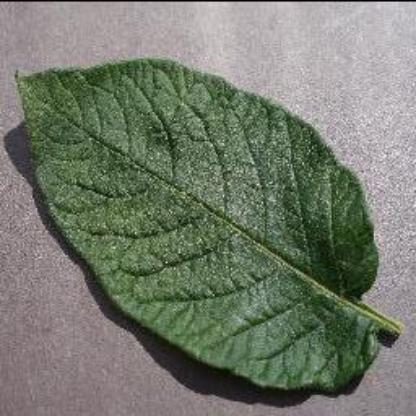Healthy-plant: (14, 55, 402, 403)
